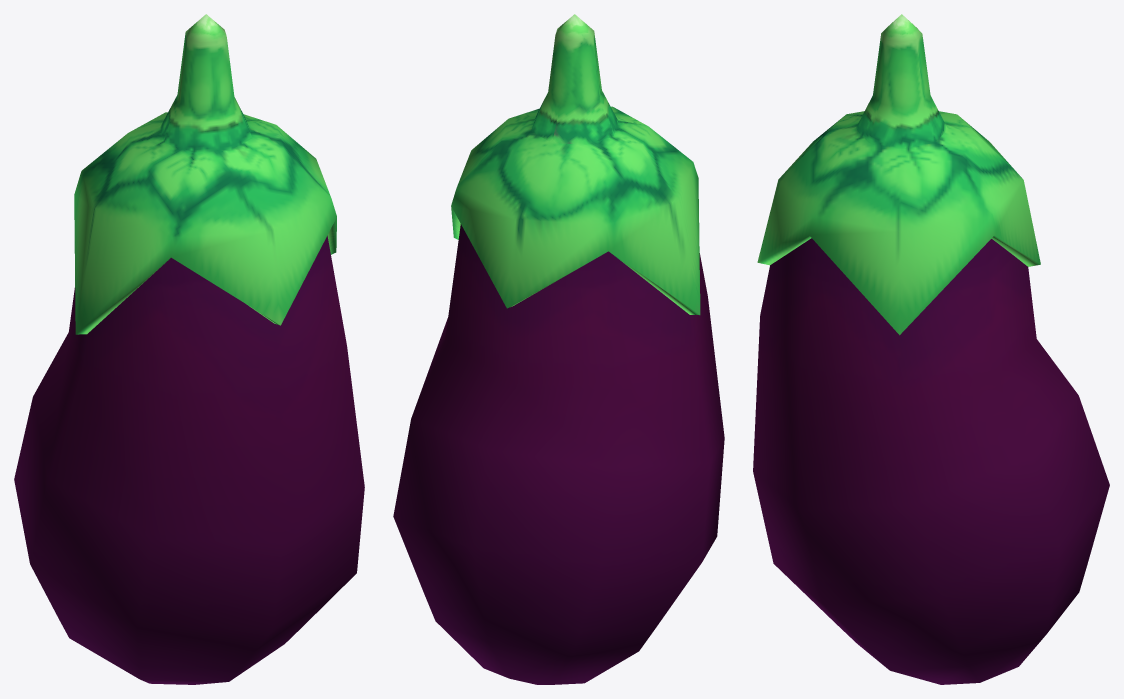
File: Eggplant.fbx
3 views of the same model, side by side, from view 1: azimuth 30°, elevation 25°; view 2: azimuth 150°, elevation 25°; view 3: azimuth 270°, elevation 25° (orthographic). The views are drawn at different scales.
Visible parts, largest first — view 1: EggplantMesh_Cylinder.019; view 2: EggplantMesh_Cylinder.019; view 3: EggplantMesh_Cylinder.019.
Boxes of the visible parts, bbox=[...] form: EggplantMesh_Cylinder.019: bbox=[14, 14, 364, 684]; EggplantMesh_Cylinder.019: bbox=[393, 14, 724, 684]; EggplantMesh_Cylinder.019: bbox=[753, 14, 1109, 684].
Size of the model in its own units: 41.9 by 87.6 by 43.04.
